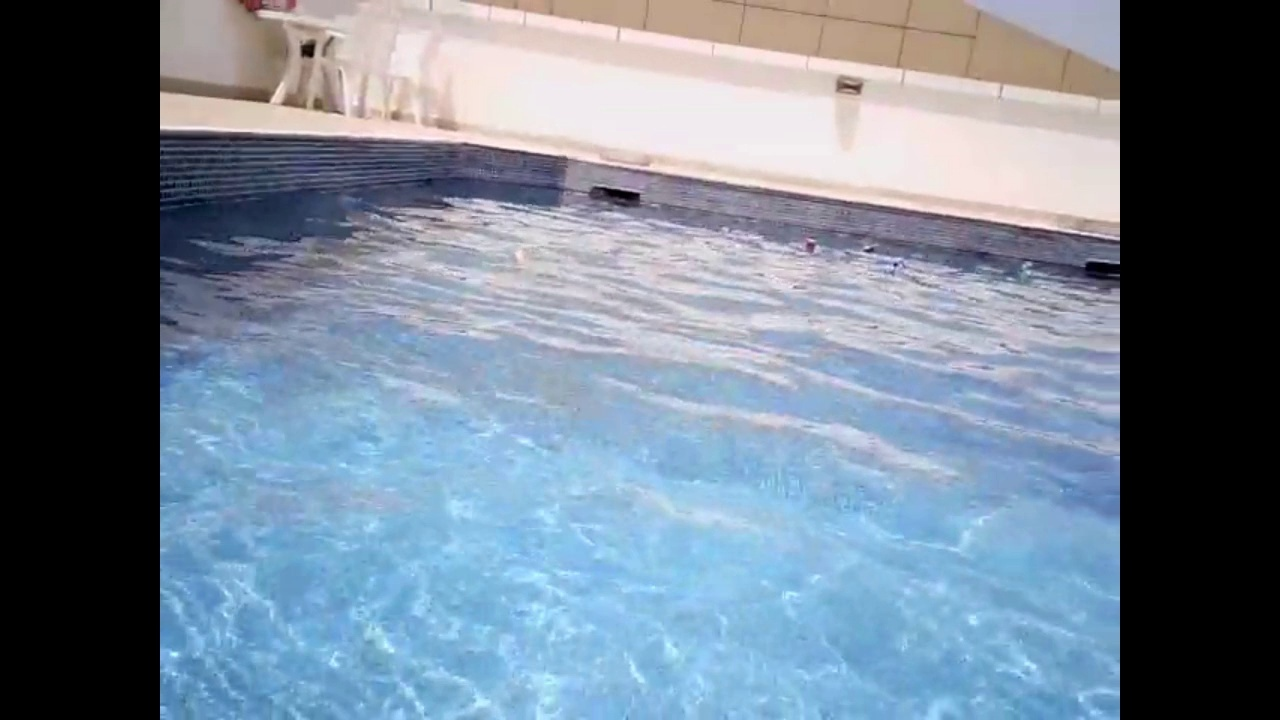debris: (882, 253, 906, 273), (858, 238, 880, 259), (802, 235, 820, 254), (510, 247, 526, 264)
